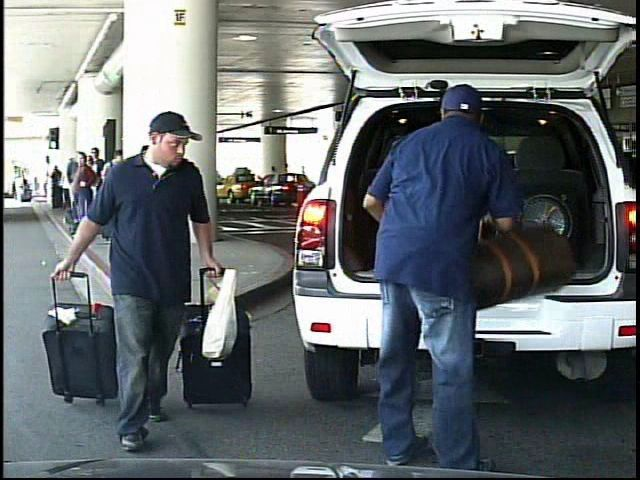person: (349, 84, 535, 476), (83, 110, 242, 442), (279, 162, 291, 198), (14, 172, 25, 203)
